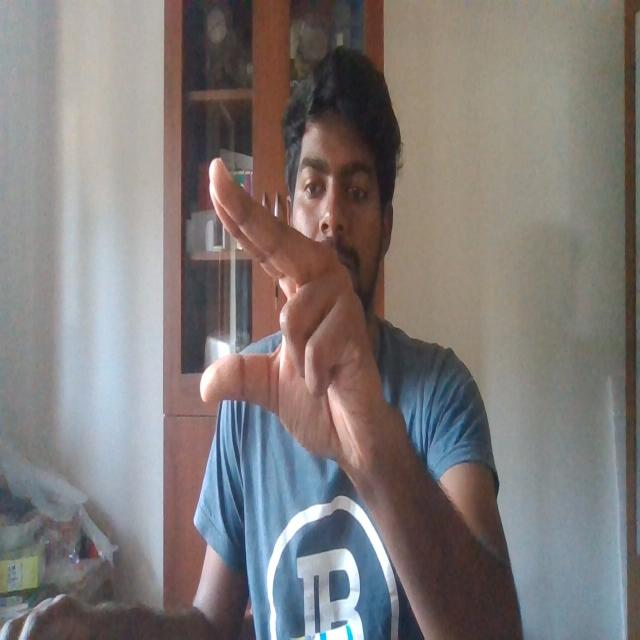No: (197, 153, 391, 454)
